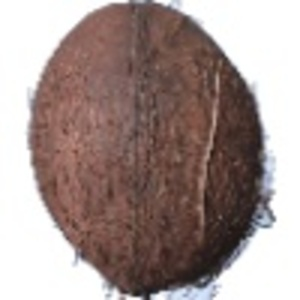coco: (28, 1, 277, 300)
